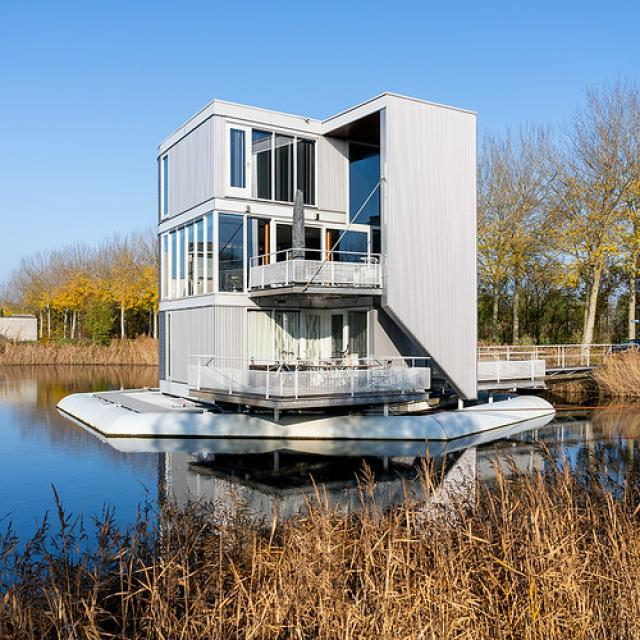building: (154, 86, 480, 408)
